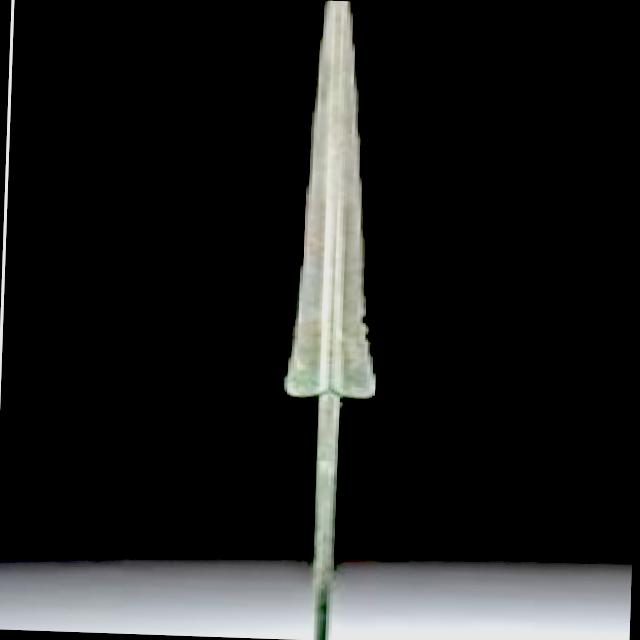spear: (255, 0, 396, 640)
